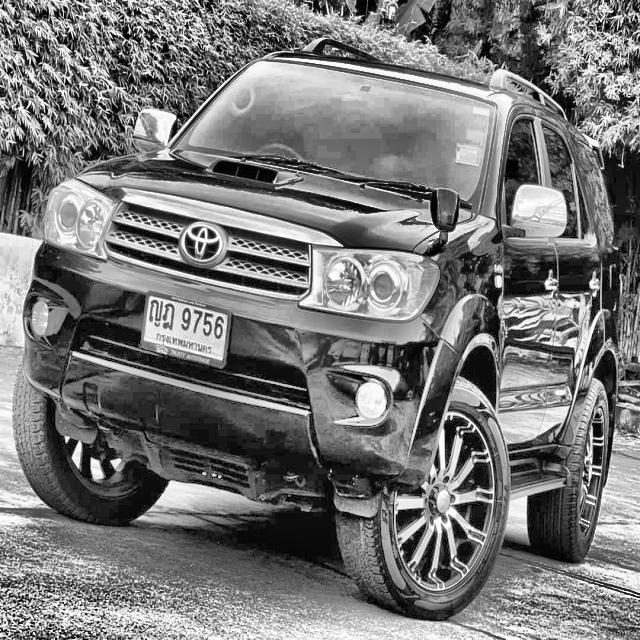license-plate: (139, 288, 231, 366)
